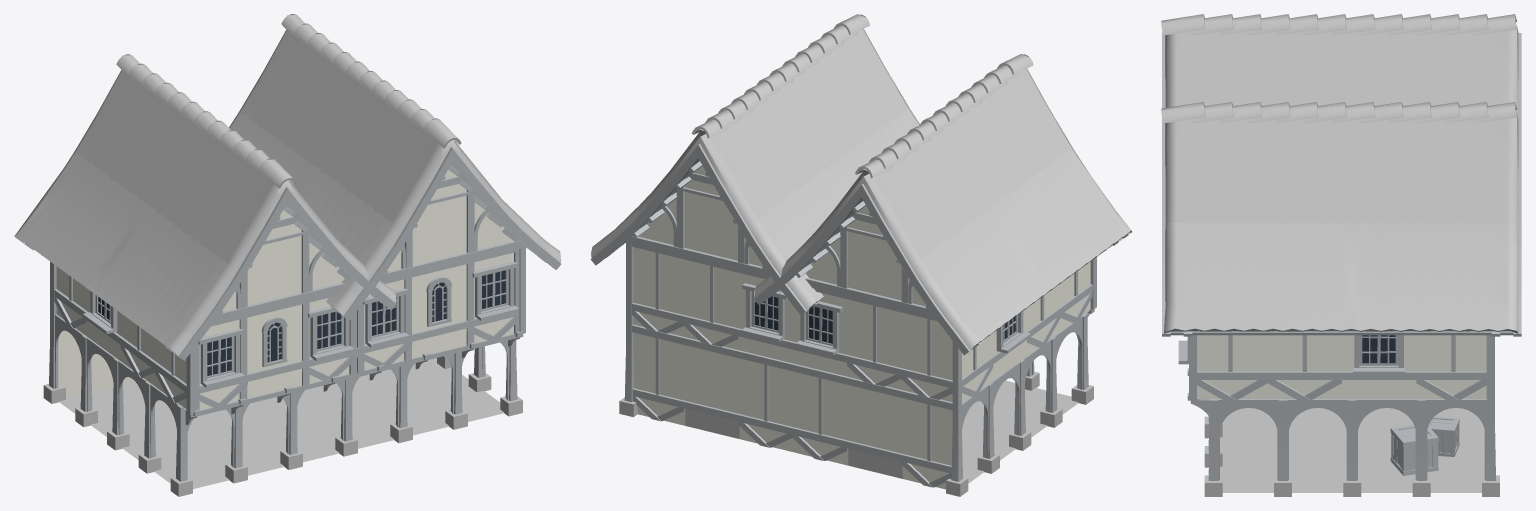
Rendered from market_hall.gltf.
3 views of the same model, side by side, from view 1: azimuth 30°, elevation 25°; view 2: azimuth 150°, elevation 25°; view 3: azimuth 270°, elevation 25° (orthographic). The views are drawn at different scales.
Visible parts, largest first — view 1: Roof_RoundTiles_6x8.127, Roof_RoundTiles_6x8.130, Roof_Front_Brick6.131, Roof_Front_Brick6.128, Wall_Plaster_Window_Thin_Round+upper.095, Wall_Plaster_Window_Thin_Round+upper.101, Wall_Plaster_Window_Wide_Flat2+upper.103, Wall_Plaster_Window_Wide_Flat2+upper.097, Wall_Plaster_Window_Wide_Flat2+upper.099, Wall_Plaster_Window_Wide_Flat2+upper.093, Window_Wide_Flat1.104, Window_Wide_Flat1.094 (+33 smaller); view 2: Roof_RoundTiles_6x8.127, Roof_RoundTiles_6x8.130, Roof_Front_Brick6.132, Roof_Front_Brick6.129, Wall_Plaster_Straight.010, Wall_Plaster_Straight.009, Wall_Plaster_Straight_Base.011, Wall_Plaster_Straight_Base.008, Wall_Plaster_Straight.007, Wall_Plaster_Straight+upper.111, Wall_Plaster_Straight.012, Wall_Plaster_Straight+upper.106 (+22 smaller); view 3: Roof_RoundTiles_6x8.130, Roof_RoundTiles_6x8.127, Wall_Plaster_Straight+upper.119, Wall_Plaster_Straight+upper.118, Wall_Plaster_Straight+upper.122, Wall_Plaster_Window_Wide_Flat+upper.120, Window_Wide_Flat1.121, Floor_UnevenBrick.068, Floor_UnevenBrick.067, Prop_Crate.076, Floor_UnevenBrick.072, Floor_UnevenBrick.071 (+20 smaller).
Boxes of the visible parts, x1,y1,x2,y2 form: Roof_RoundTiles_6x8.127: [14, 54, 396, 360]; Roof_RoundTiles_6x8.130: [229, 14, 561, 320]; Roof_Front_Brick6.131: [380, 165, 526, 282]; Roof_Front_Brick6.128: [213, 205, 353, 323]; Wall_Plaster_Window_Thin_Round+upper.095: [247, 301, 302, 398]; Wall_Plaster_Window_Thin_Round+upper.101: [412, 261, 467, 358]; Wall_Plaster_Window_Wide_Flat2+upper.103: [466, 249, 519, 346]; Wall_Plaster_Window_Wide_Flat2+upper.097: [301, 293, 357, 386]; Wall_Plaster_Window_Wide_Flat2+upper.099: [357, 275, 412, 373]; Wall_Plaster_Window_Wide_Flat2+upper.093: [196, 315, 247, 410]; Window_Wide_Flat1.104: [472, 261, 519, 320]; Window_Wide_Flat1.094: [198, 328, 244, 387]; Roof_RoundTiles_6x8.127: [754, 54, 1132, 355]; Roof_RoundTiles_6x8.130: [590, 14, 919, 315]; Roof_Front_Brick6.132: [625, 161, 769, 277]; Roof_Front_Brick6.129: [796, 201, 934, 317]; Wall_Plaster_Straight.010: [792, 363, 848, 465]; Wall_Plaster_Straight.009: [738, 350, 793, 452]; Wall_Plaster_Straight_Base.011: [846, 377, 902, 478]; Wall_Plaster_Straight_Base.008: [683, 337, 739, 438]; Wall_Plaster_Straight.007: [632, 324, 685, 425]; Wall_Plaster_Straight+upper.111: [846, 296, 902, 389]; Wall_Plaster_Straight.012: [901, 390, 952, 489]; Wall_Plaster_Straight+upper.106: [683, 257, 739, 350]; Roof_RoundTiles_6x8.130: [1161, 102, 1521, 336]; Roof_RoundTiles_6x8.127: [1161, 14, 1521, 120]; Wall_Plaster_Straight+upper.119: [1267, 335, 1341, 400]; Wall_Plaster_Straight+upper.118: [1197, 335, 1267, 400]; Wall_Plaster_Straight+upper.122: [1416, 335, 1486, 400]; Wall_Plaster_Window_Wide_Flat+upper.120: [1342, 335, 1416, 398]; Window_Wide_Flat1.121: [1353, 335, 1404, 374]; Floor_UnevenBrick.068: [1289, 433, 1346, 462]; Floor_UnevenBrick.067: [1220, 433, 1277, 462]; Prop_Crate.076: [1390, 424, 1438, 475]; Floor_UnevenBrick.072: [1289, 463, 1346, 492]; Floor_UnevenBrick.071: [1220, 463, 1277, 492].
Bounding box in the file's own units: 14.25 × 11.01 × 10.41.
